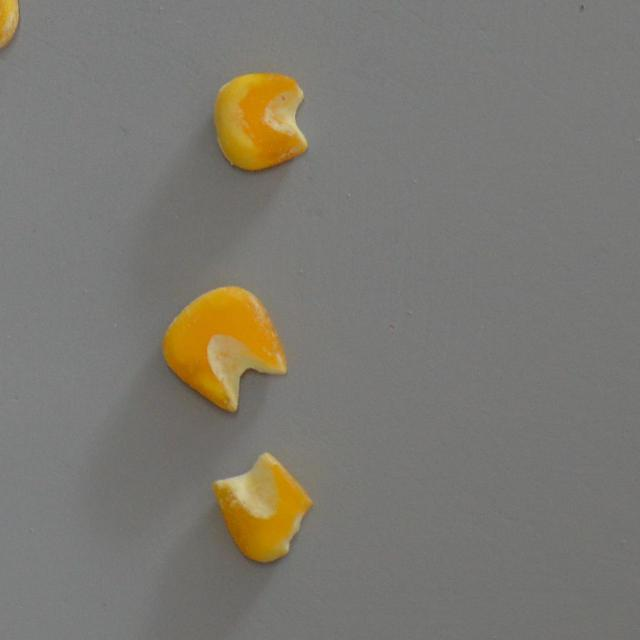no_canjicado: (162, 284, 288, 414), (212, 451, 311, 563), (214, 72, 306, 170)
